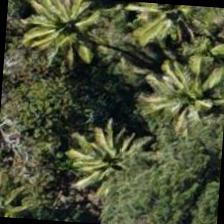Kelapa_Sawit: (52, 106, 148, 202), (13, 0, 110, 86), (145, 47, 223, 143)
